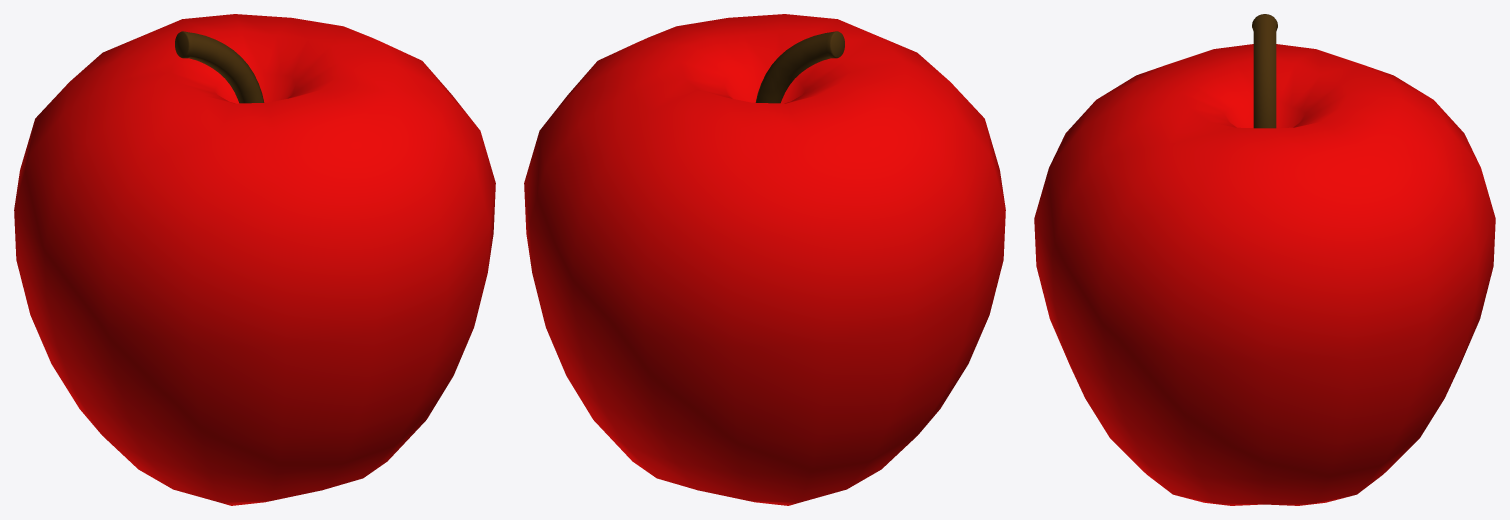
Rendered from Apple.fbx.
3 renders of one model, left to right at view 1: azimuth 30°, elevation 25°; view 2: azimuth 150°, elevation 25°; view 3: azimuth 270°, elevation 25°, orthographic. The views are drawn at different scales.
Parts seen in each view (by area): view 1: apple; view 2: apple; view 3: apple.
Part boxes in pixels (x1,y1,x2,y2): apple: [14, 14, 495, 505]; apple: [524, 14, 1005, 505]; apple: [1034, 14, 1495, 505].
Size of the model in its own units: 602 by 619 by 602.
